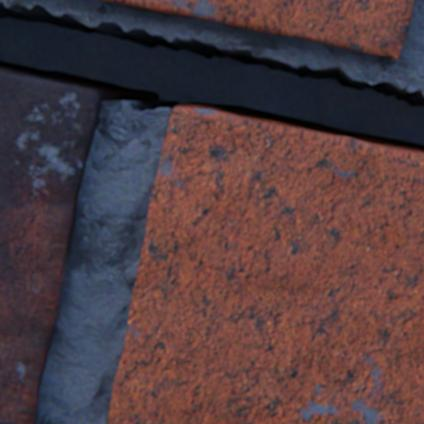brick: (108, 107, 423, 423), (0, 70, 101, 423), (98, 0, 412, 58)
crack: (0, 1, 423, 153)
